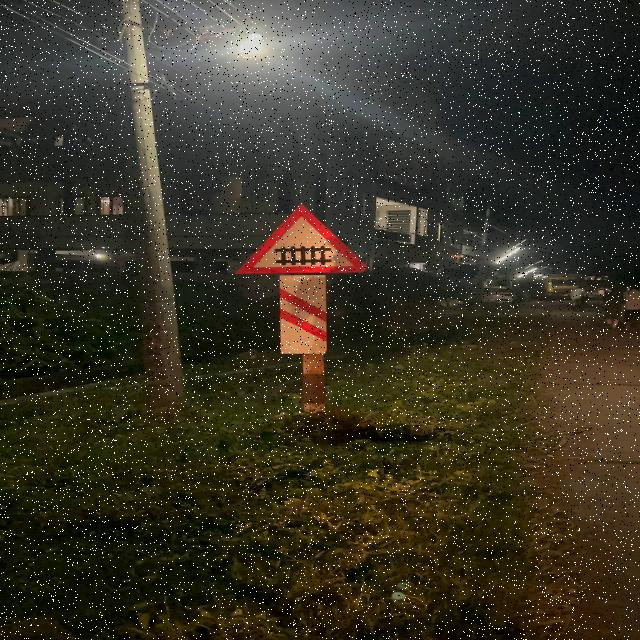200 metres: (218, 184, 396, 367)
